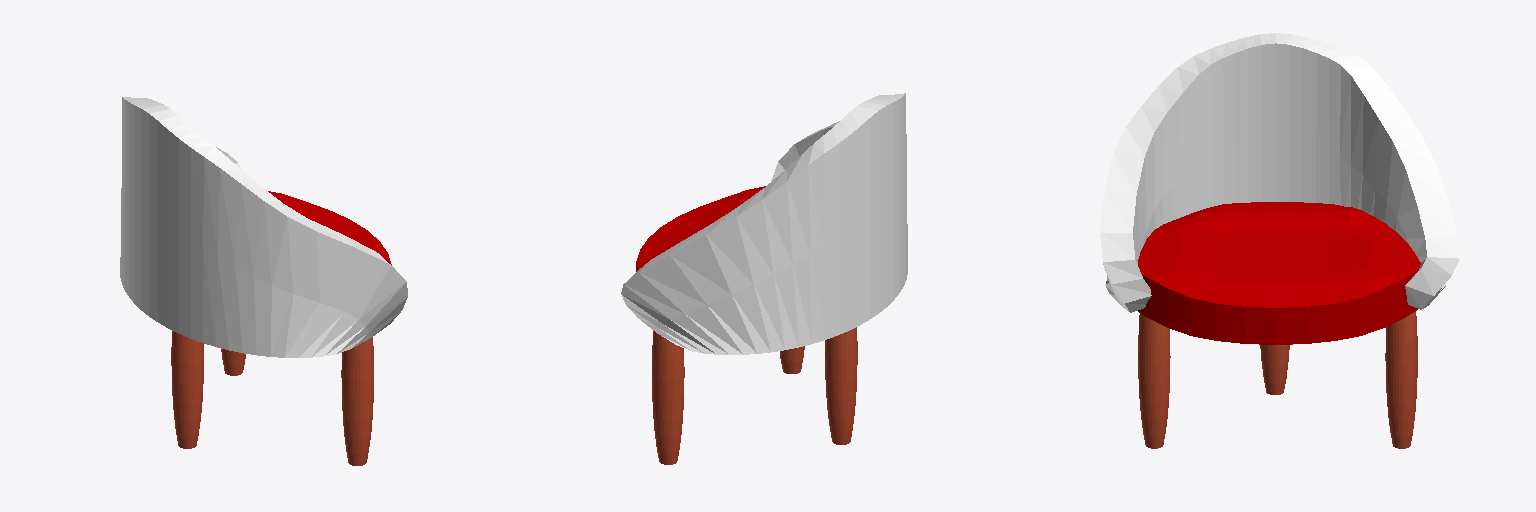
Rendered from FauteuilRouge.obj.
3 views of the same model, side by side, from view 1: azimuth 30°, elevation 25°; view 2: azimuth 150°, elevation 25°; view 3: azimuth 270°, elevation 25° (orthographic).
Visible parts, largest first — view 1: Cylinder; view 2: Cylinder; view 3: Cylinder.
Part boxes in pixels (left/top/right/bottom): Cylinder: left=120, top=97, right=407, bottom=465; Cylinder: left=621, top=93, right=907, bottom=464; Cylinder: left=1100, top=33, right=1459, bottom=448.
Bounding box in the file's own units: 4.17 × 6.23 × 5.97.